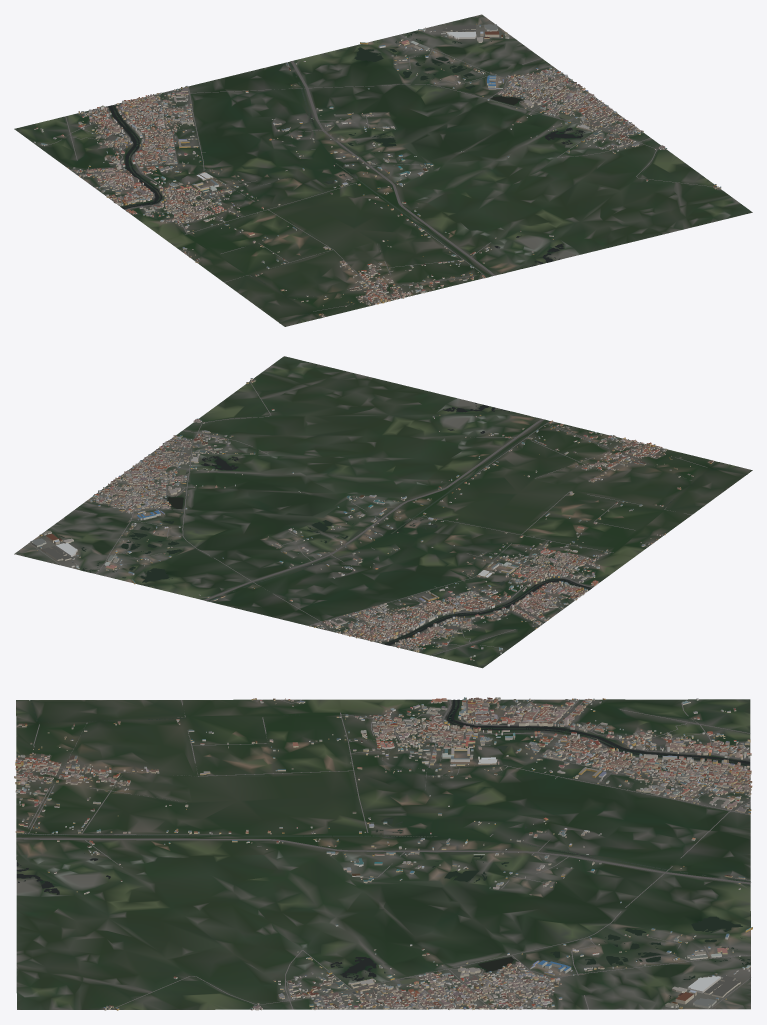
The picture shows the model from 3 angles, top to bottom: view 1: azimuth 30°, elevation 25°; view 2: azimuth 150°, elevation 25°; view 3: azimuth 270°, elevation 25°; orthographic projection. The views are drawn at different scales.
Visible parts, largest first — view 1: ground, buildings, roads, water; view 2: ground, buildings, roads, water; view 3: ground, buildings, roads, water.
Boxes of the visible parts, <box> form: ground: <box>14,14,752,326</box>; buildings: <box>33,23,721,316</box>; roads: <box>44,25,716,311</box>; water: <box>108,31,585,322</box>; ground: <box>14,356,752,668</box>; buildings: <box>30,378,713,660</box>; roads: <box>31,381,707,655</box>; water: <box>59,403,747,645</box>; ground: <box>16,699,750,1009</box>; buildings: <box>14,697,752,1010</box>; roads: <box>16,699,750,1009</box>; water: <box>16,699,750,999</box>.
Size of the model in its own units: 2814 by 30.66 by 2822.
